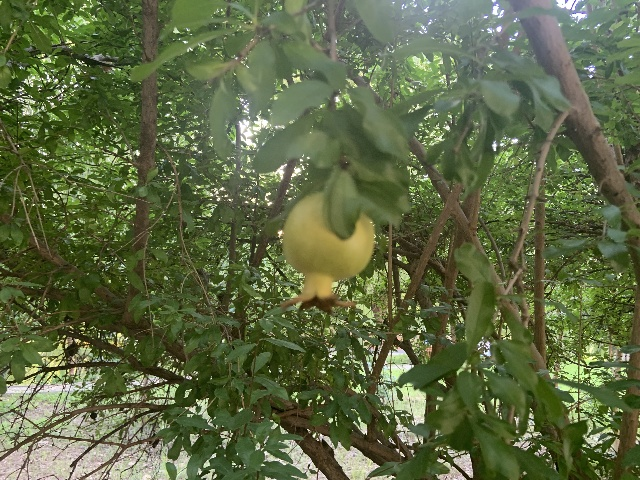mid-growth: (279, 193, 374, 314)
